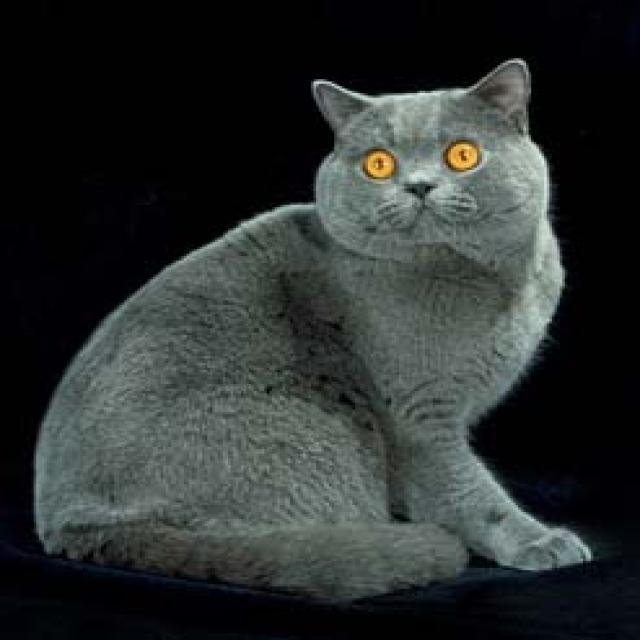British_Shorthair: (307, 52, 562, 281)
